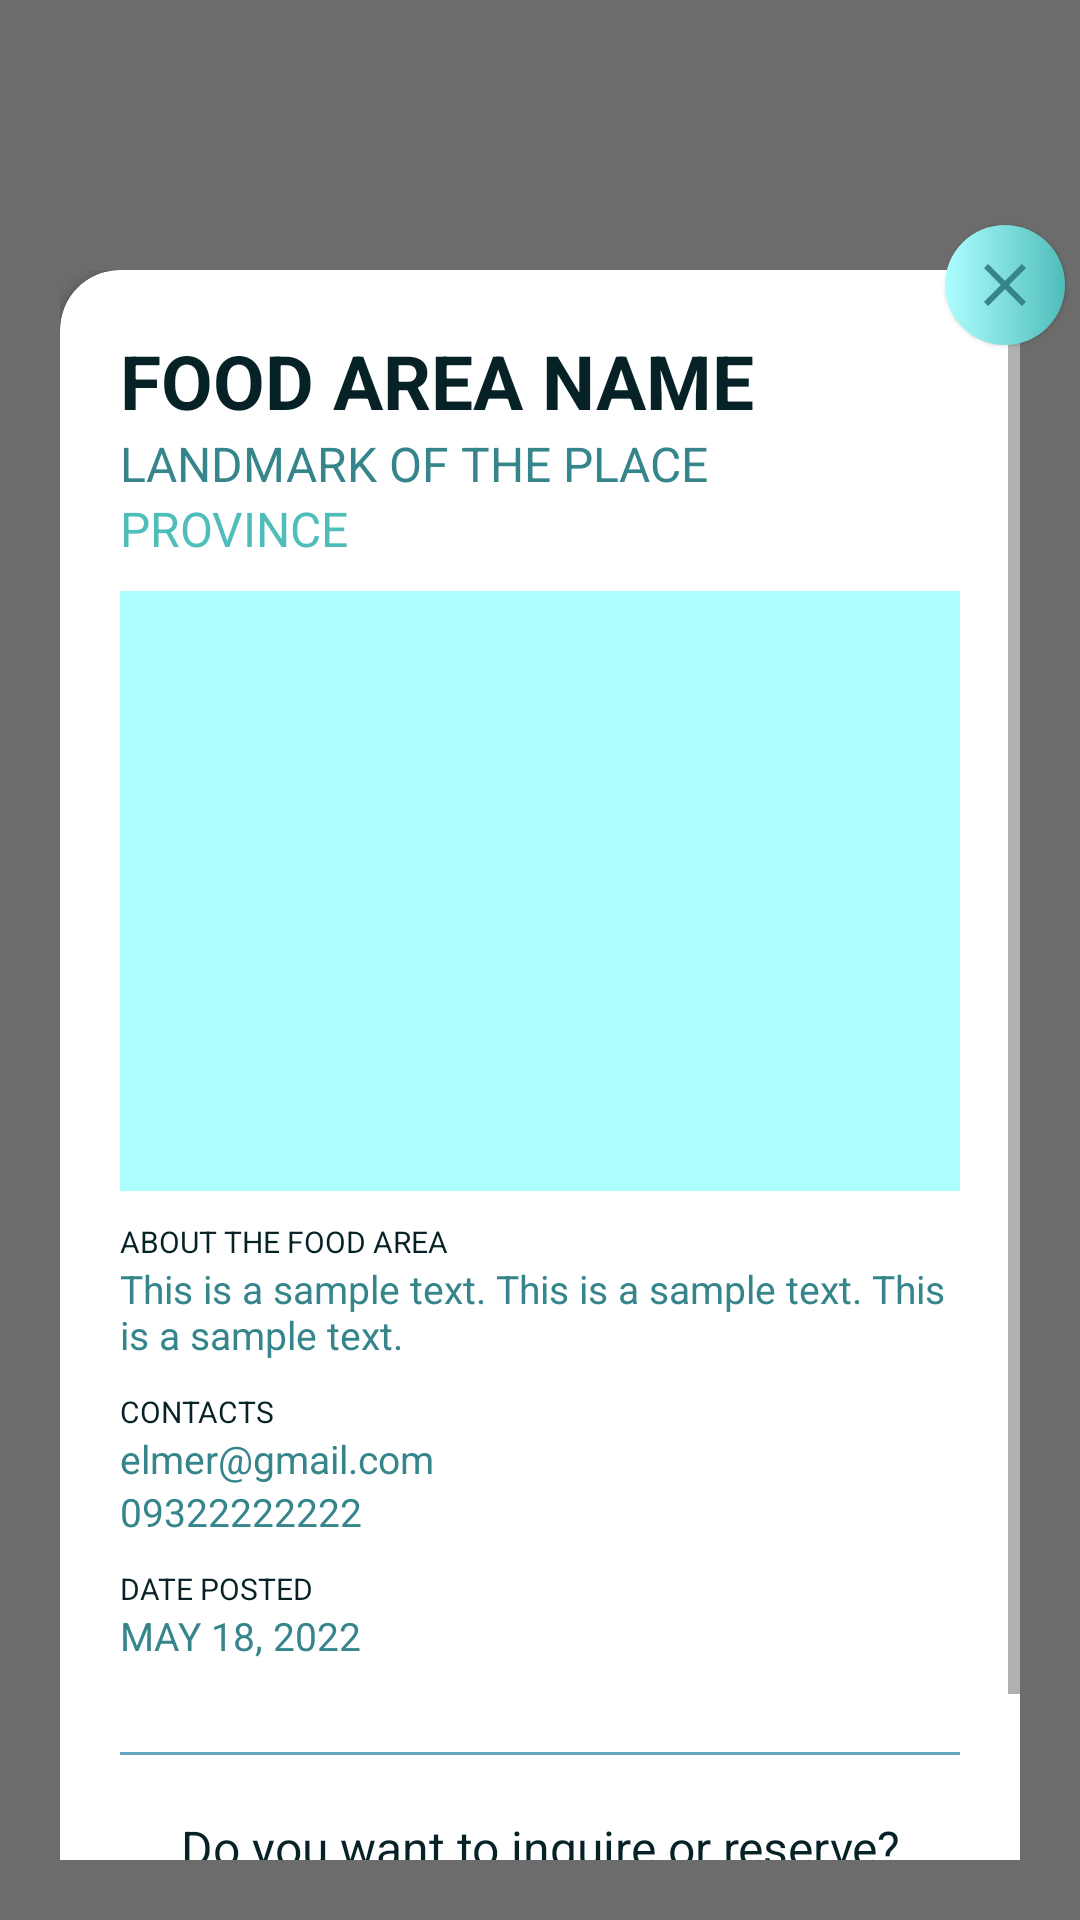

Icon click points for this 1080px×1920px phone screenshot, format point (x, y):
close: point (1005, 285)
